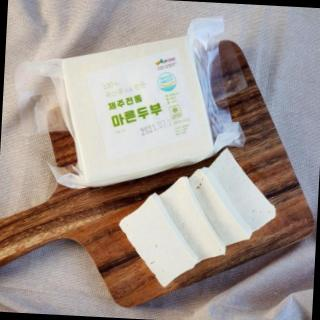Tahu: (107, 142, 287, 298)
